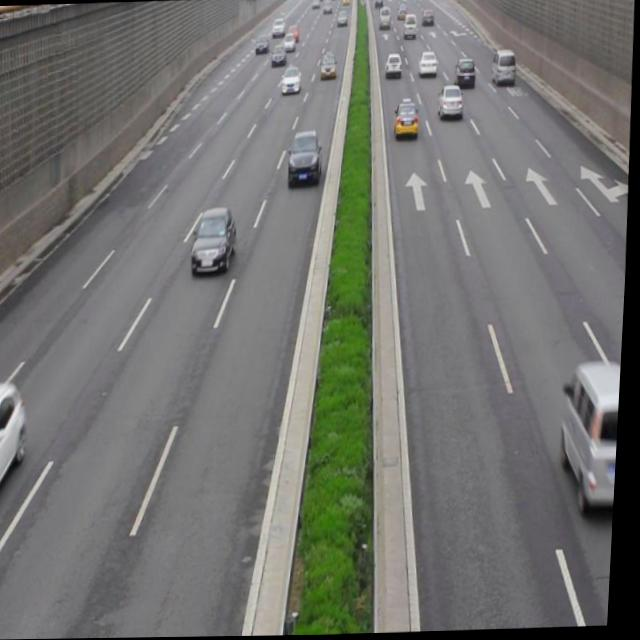car: (0, 380, 31, 518), (191, 205, 239, 275), (287, 130, 324, 187), (393, 98, 421, 141), (437, 84, 465, 122)
truck: (559, 359, 625, 515)
